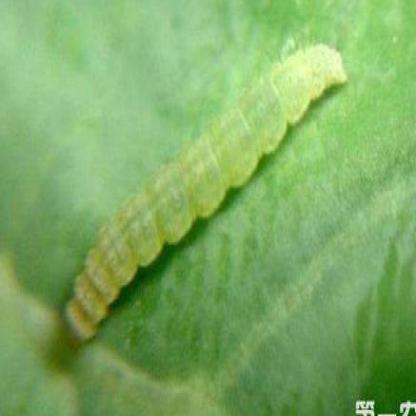armyworm: (39, 20, 364, 371)
